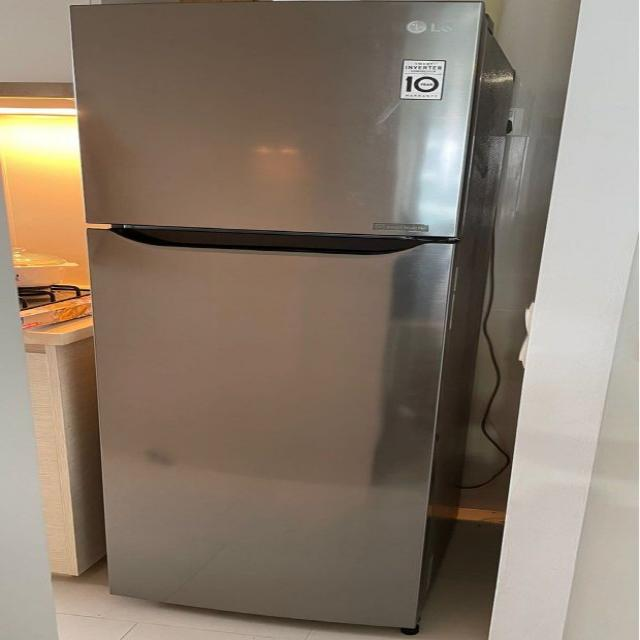refrigerator: (66, 0, 484, 637)
